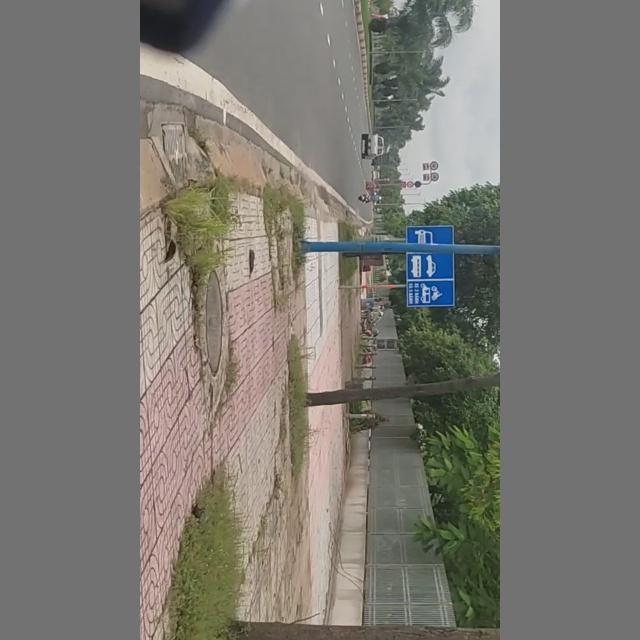R.415a: (405, 222, 458, 307)
